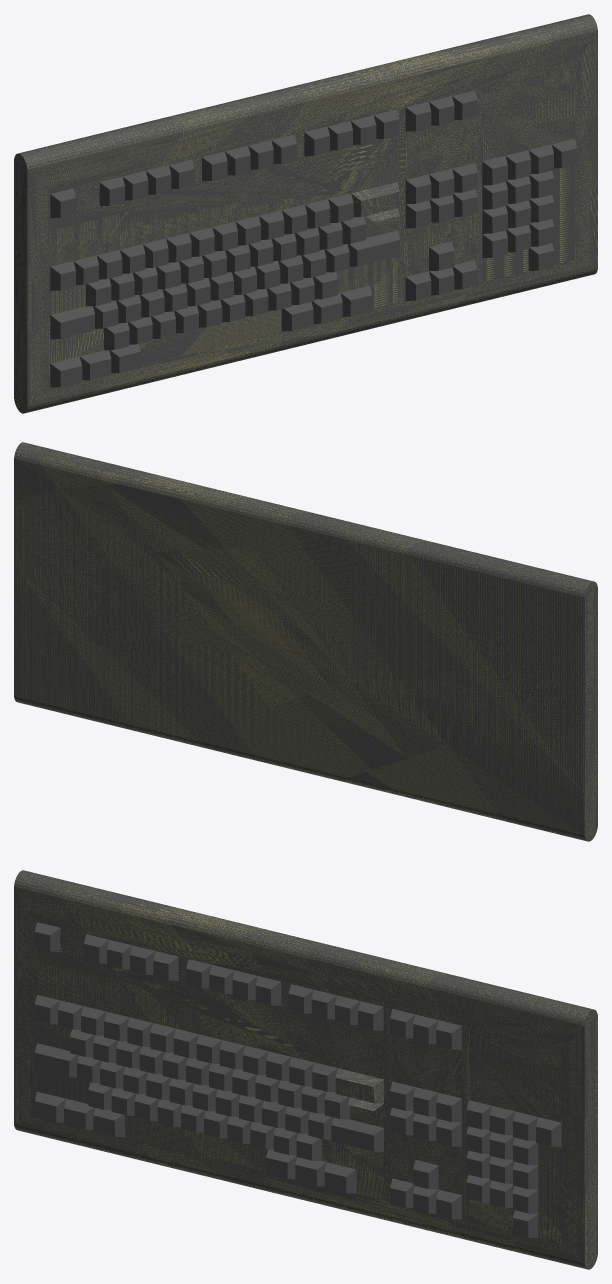
The picture shows the model from 3 angles, top to bottom: view 1: azimuth 30°, elevation 25°; view 2: azimuth 150°, elevation 25°; view 3: azimuth 330°, elevation 25°; orthographic projection.
Parts seen in each view (by area): view 1: keyboard; view 2: keyboard; view 3: keyboard.
Boxes of the visible parts, x1=… form: keyboard: x1=14, y1=14, x2=597, y2=413; keyboard: x1=14, y1=442, x2=597, y2=841; keyboard: x1=14, y1=870, x2=597, y2=1269.
Bounding box in the file's own units: 18.5 × 8 × 1.1.
